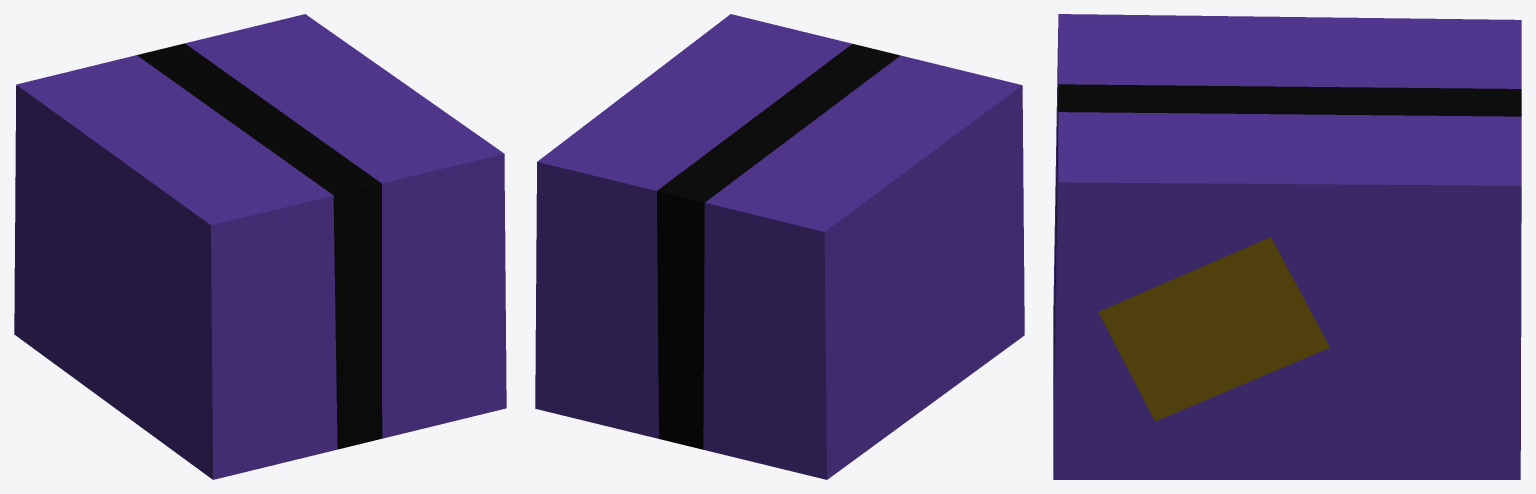
File: cardboardbox.fbx
The picture shows the model from 3 angles, left to right: view 1: azimuth 30°, elevation 25°; view 2: azimuth 150°, elevation 25°; view 3: azimuth 270°, elevation 25°; orthographic projection. The views are drawn at different scales.
Visible parts, largest first — view 1: cardboardbox; view 2: cardboardbox; view 3: cardboardbox.
Boxes of the visible parts, <box> form: cardboardbox: <box>14,14,506,479</box>; cardboardbox: <box>535,14,1024,479</box>; cardboardbox: <box>1053,14,1521,479</box>.
Size of the model in its own units: 35.48 by 29.07 by 41.45.
